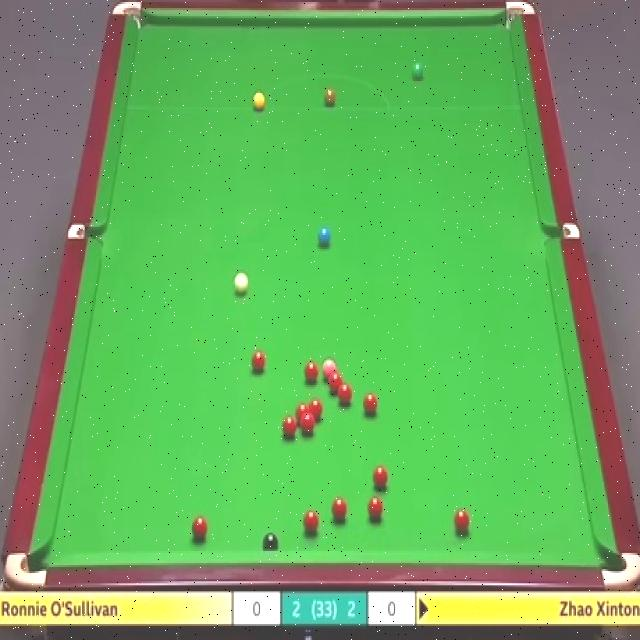black-ball: (264, 532, 282, 550)
blue-ball: (318, 228, 332, 245)
brown-ball: (324, 89, 337, 111)
green-ball: (412, 60, 424, 76)
pink-ball: (322, 358, 337, 378)
red-ball: (308, 398, 325, 424), (190, 516, 208, 540), (372, 465, 388, 492), (303, 510, 320, 535), (332, 494, 347, 522), (281, 416, 297, 440), (452, 508, 468, 532), (368, 497, 384, 520), (252, 350, 265, 374), (301, 414, 315, 435), (362, 394, 378, 412), (338, 385, 351, 407), (303, 361, 317, 381), (328, 372, 342, 392), (296, 404, 309, 423)
white-ball: (233, 273, 247, 291)
yellow-ball: (253, 91, 265, 112)
